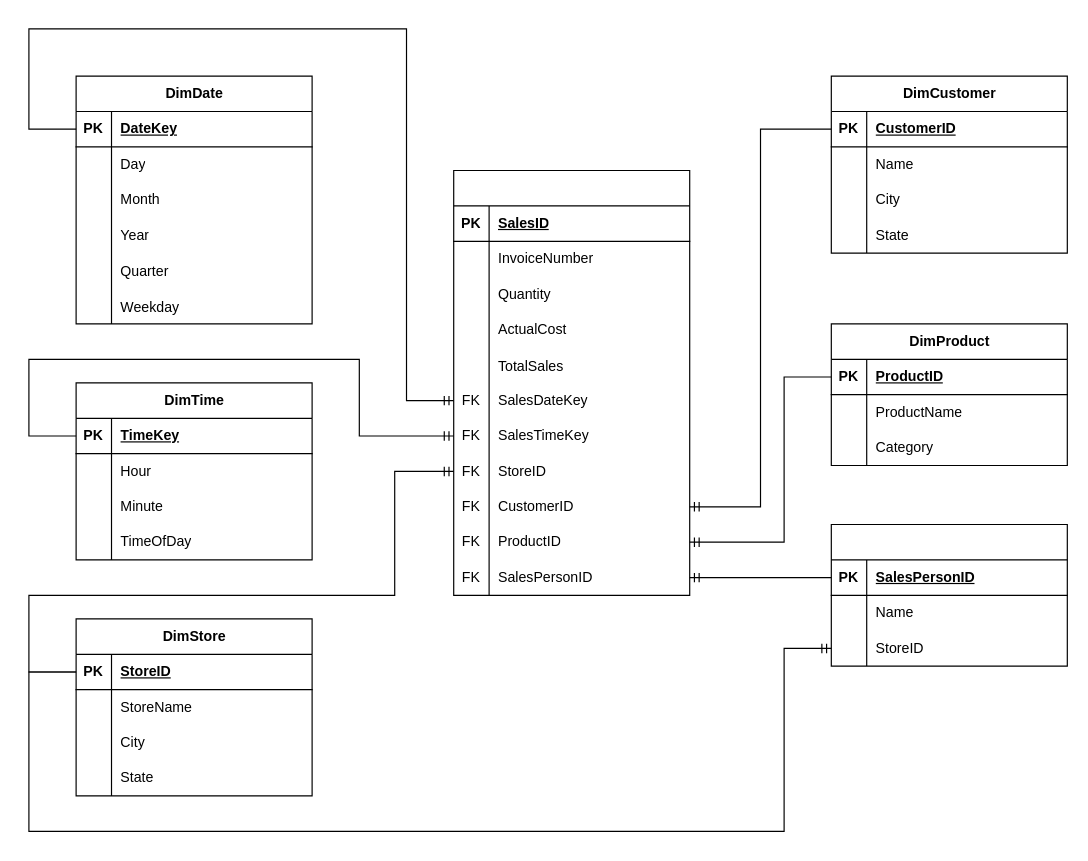
This 1088x861 diagram has some shape labels left out. The box of each missing label's shape, as (x1, y1, x2, y2) in pixels:
DimSalesPerson: (830, 523, 1067, 666)
FactSales: (453, 169, 690, 595)
